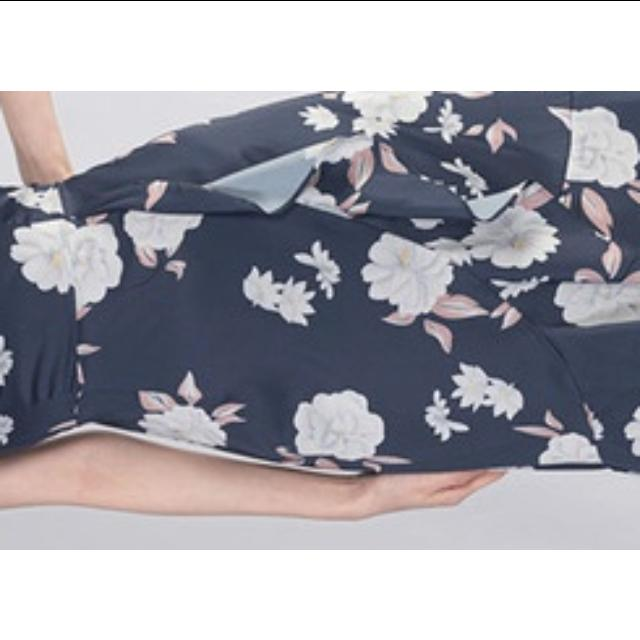polyester: (0, 90, 640, 482)
